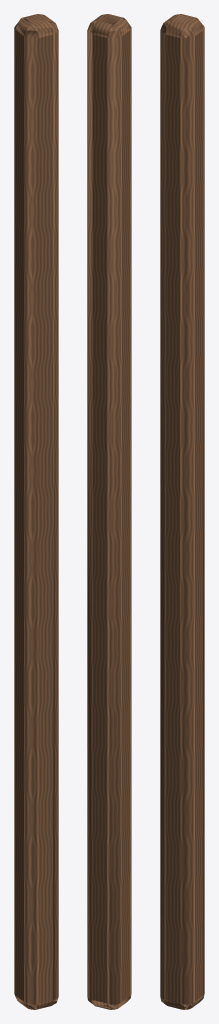
Rendered from ShopCornerPost90.glb.
The picture shows the model from 3 angles, left to right: view 1: azimuth 30°, elevation 25°; view 2: azimuth 150°, elevation 25°; view 3: azimuth 330°, elevation 25°; orthographic projection.
Visible parts, largest first — view 1: PBK_ShopCornerPost90.021; view 2: PBK_ShopCornerPost90.021; view 3: PBK_ShopCornerPost90.021.
Part boxes in pixels (bbox=[...]): PBK_ShopCornerPost90.021: bbox=[14, 14, 58, 1009]; PBK_ShopCornerPost90.021: bbox=[87, 14, 131, 1009]; PBK_ShopCornerPost90.021: bbox=[160, 14, 204, 1009].
Size of the model in its own units: 0.1 by 2.84 by 0.1.
Materials: 1 (1 with a texture image).
